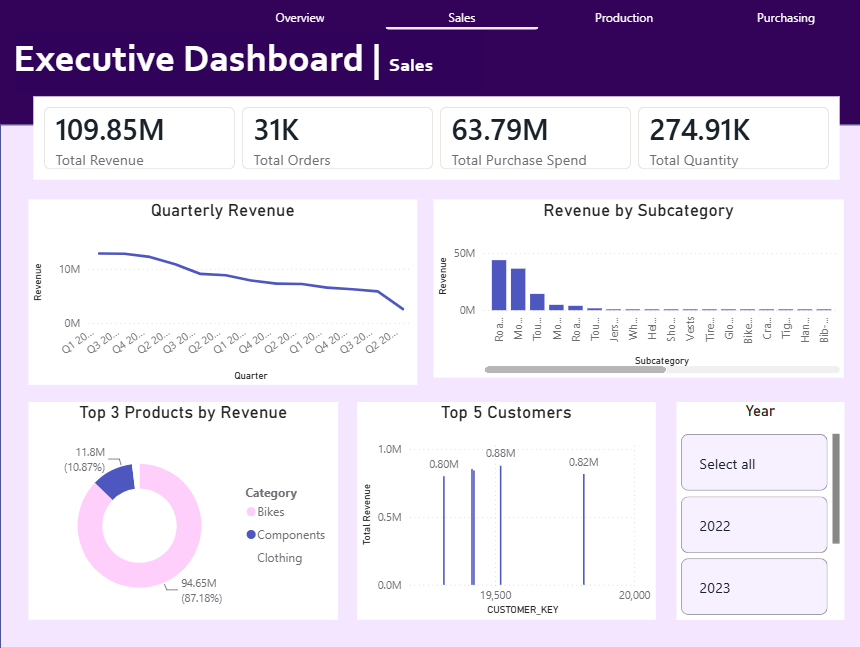

Layout of this report page (visuals, bound fields, positions):
{"tool":"powerbi","page":{"name":"Sales","canvas":[960,720],"ordinal":1},"visuals":[{"type":"textbox","box":[10,34,528,68],"z":0},{"type":"shape","box":[0,137.5,1280,582.5],"z":1000},{"type":"cardVisual","fields":{"Data":["FACT_SALES.Total Revenue","FACT_SALES.Total Orders","FACT_PURCHASE.Total Purchase Spend","FACT_SALES.Total Quantity"]},"box":[31.7,101.7,906.7,103.3],"z":2000},{"type":"lineChart","title":"Quarterly Revenue","fields":{"Category":["FACT_SALES.QUARTER"],"Y":["FACT_SALES.Quarter Revenue"]},"box":[32,222,432,206],"z":3000},{"type":"clusteredColumnChart","title":"Revenue by Subcategory","fields":{"Category":["DIM_PRODUCT.SUBCATEGORY_NAME"],"Y":["FACT_SALES.Total Revenue"]},"box":[482,222,456,198],"z":4000},{"type":"donutChart","title":"Top 3 Products by Revenue","fields":{"Category":["DIM_PRODUCT.CATEGORY_NAME"],"Y":["FACT_SALES.Total Revenue"]},"box":[32,446,344,242],"z":5000},{"type":"clusteredColumnChart","title":"Top 5 Customers","fields":{"Category":["DIM_CUSTOMER.CUSTOMER_KEY"],"Y":["FACT_SALES.Total Revenue"]},"box":[396,446,332,242],"z":6000},{"type":"advancedSlicerVisual","title":"Year","fields":{"Values":["FACT_SALES.YEAR"]},"box":[752,446,186,242],"z":7000},{"type":"pageNavigator","box":[248.3,0,711.7,33.3],"z":8000}]}

Visuals, with their boxes in screenshot pixels (x1, y1, x2, y2), scaled from the page's 960x720 canvas onto the 860x648 screenshot:
textbox: <bbox>9, 31, 482, 92</bbox>
shape: <bbox>0, 124, 859, 647</bbox>
cardVisual - FACT_SALES.Total Revenue x FACT_SALES.Total Orders: <bbox>28, 92, 841, 184</bbox>
"Quarterly Revenue" lineChart: <bbox>29, 200, 416, 385</bbox>
"Revenue by Subcategory" clusteredColumnChart: <bbox>432, 200, 840, 378</bbox>
"Top 3 Products by Revenue" donutChart: <bbox>29, 401, 337, 619</bbox>
"Top 5 Customers" clusteredColumnChart: <bbox>355, 401, 652, 619</bbox>
"Year" advancedSlicerVisual: <bbox>674, 401, 840, 619</bbox>
pageNavigator: <bbox>222, 0, 859, 30</bbox>
